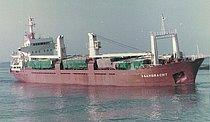Ship: (7, 8, 210, 92)
